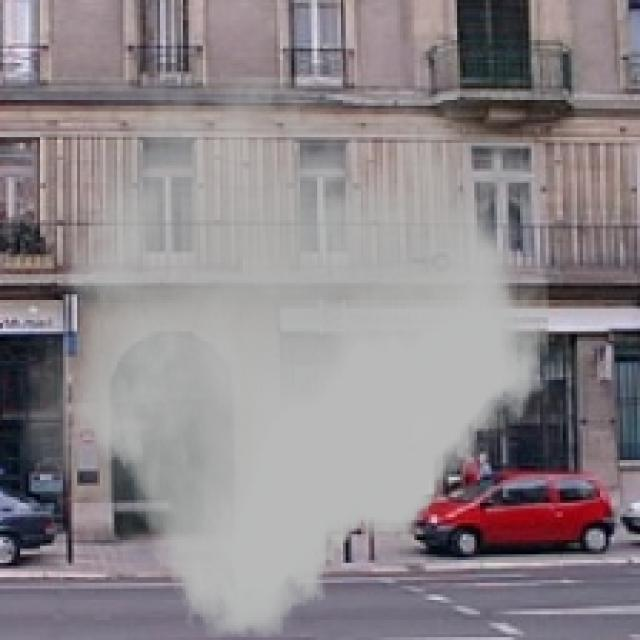smoke: (6, 77, 557, 637)
